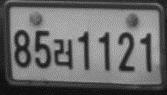1: (77, 29, 91, 70), (139, 31, 152, 73), (97, 30, 110, 71)
2: (117, 31, 135, 71)
5: (34, 30, 51, 68)
8: (13, 28, 31, 67)
러: (53, 38, 73, 69)
